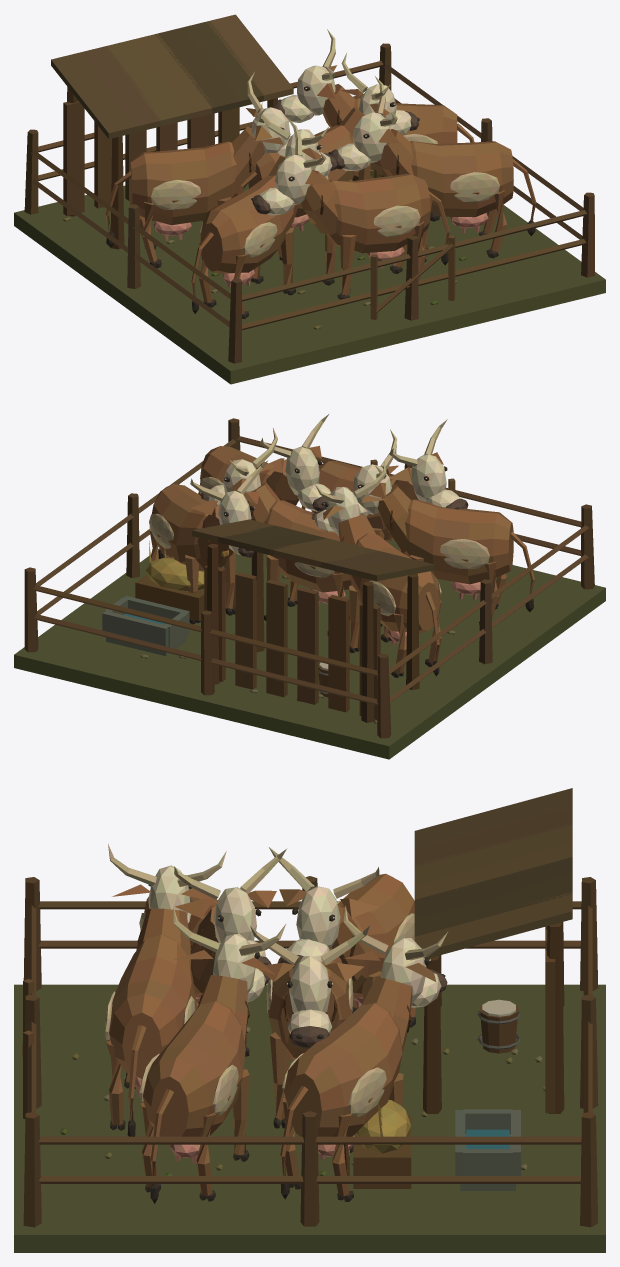
File: elevage_vache_grand.glb
The picture shows the model from 3 angles, top to bottom: view 1: azimuth 30°, elevation 25°; view 2: azimuth 150°, elevation 25°; view 3: azimuth 270°, elevation 25°; orthographic projection. The views are drawn at different scales.
Visible parts, largest first — view 1: Enclos_grand, Vache_04, Vache_02, Vache_03, Vache_01, Vache_05, Vache_00; view 2: Enclos_grand, Vache_01, Vache_03, Vache_05, Vache_00, Vache_02, Vache_04; view 3: Enclos_grand, Vache_05, Vache_02, Vache_04, Vache_03, Vache_00, Vache_01.
Boxes of the visible parts, x1=… form: Enclos_grand: x1=14, y1=14, x2=605, y2=384; Vache_04: x1=251, y1=118, x2=449, y2=299; Vache_02: x1=328, y1=76, x2=536, y2=262; Vache_03: x1=105, y1=72, x2=291, y2=268; Vache_01: x1=191, y1=102, x2=336, y2=318; Vache_05: x1=274, y1=29, x2=474, y2=221; Vache_00: x1=237, y1=53, x2=419, y2=261; Enclos_grand: x1=14, y1=418, x2=605, y2=759; Vache_01: x1=352, y1=429, x2=534, y2=624; Vache_03: x1=311, y1=461, x2=441, y2=677; Vache_05: x1=149, y1=460, x2=267, y2=624; Vache_00: x1=200, y1=428, x2=382, y2=635; Vache_02: x1=198, y1=414, x2=330, y2=581; Vache_04: x1=301, y1=419, x2=468, y2=553; Enclos_grand: x1=14, y1=788, x2=605, y2=1252; Vache_05: x1=280, y1=906, x2=448, y2=1201; Vache_02: x1=139, y1=906, x2=285, y2=1203; Vache_04: x1=105, y1=844, x2=226, y2=1136; Vache_03: x1=269, y1=847, x2=415, y2=1027; Vache_00: x1=250, y1=926, x2=369, y2=1128; Vache_01: x1=139, y1=849, x2=286, y2=1056.
Bounding box in the file's own units: 0.532 × 0.24 × 0.532.
